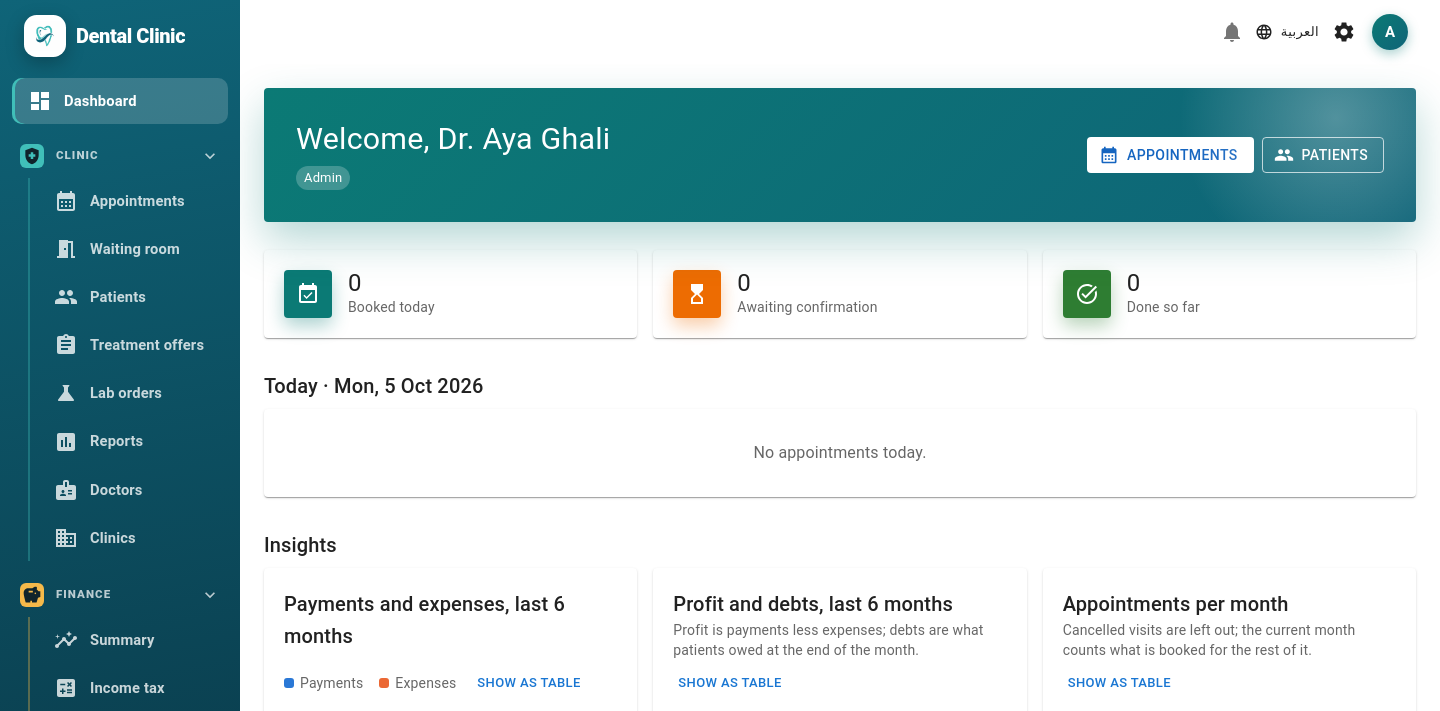
Test: dashboard insights: admin › lets the month chart be read as a table
Click the button "Show as table" below "Payments and expenses, last 6 months" at {"x": 529, "y": 683}, box [472,668,586,698]
(page scrolled)
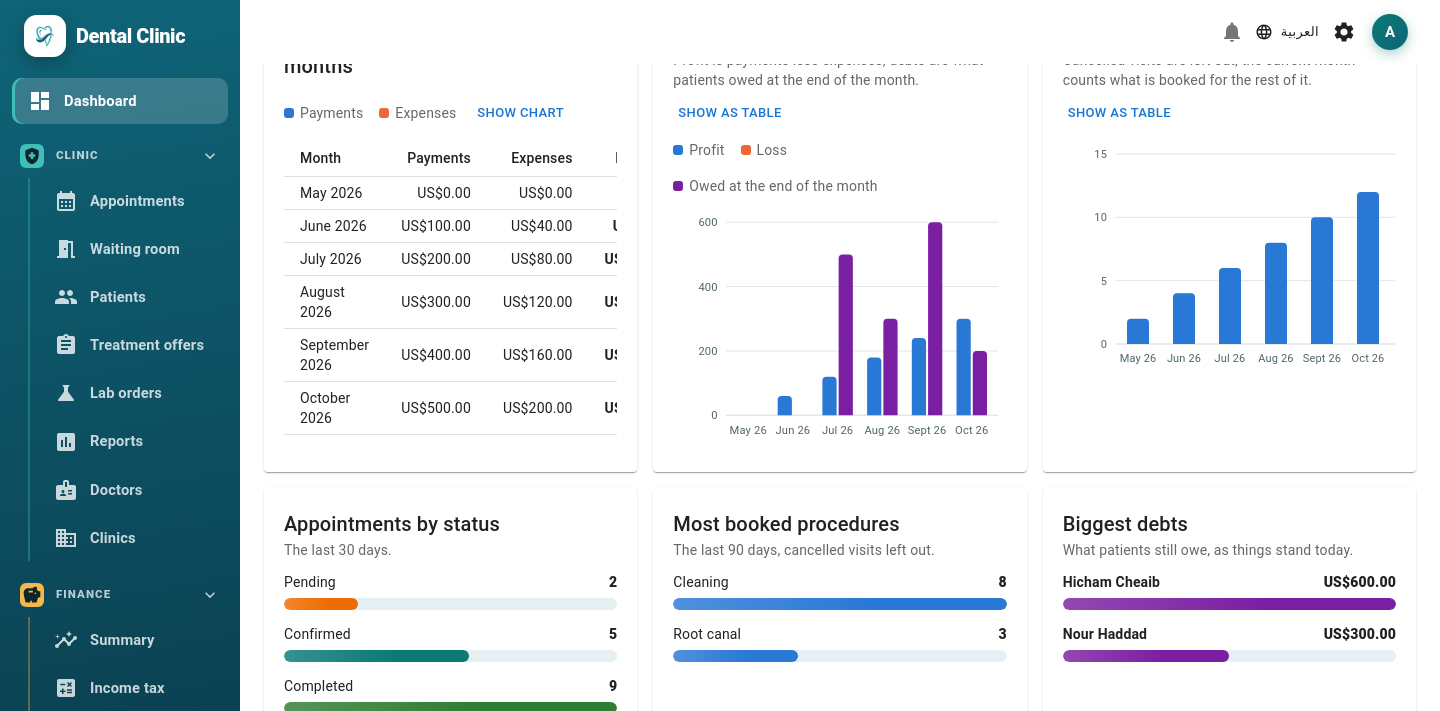
Now the number of rows is 7
